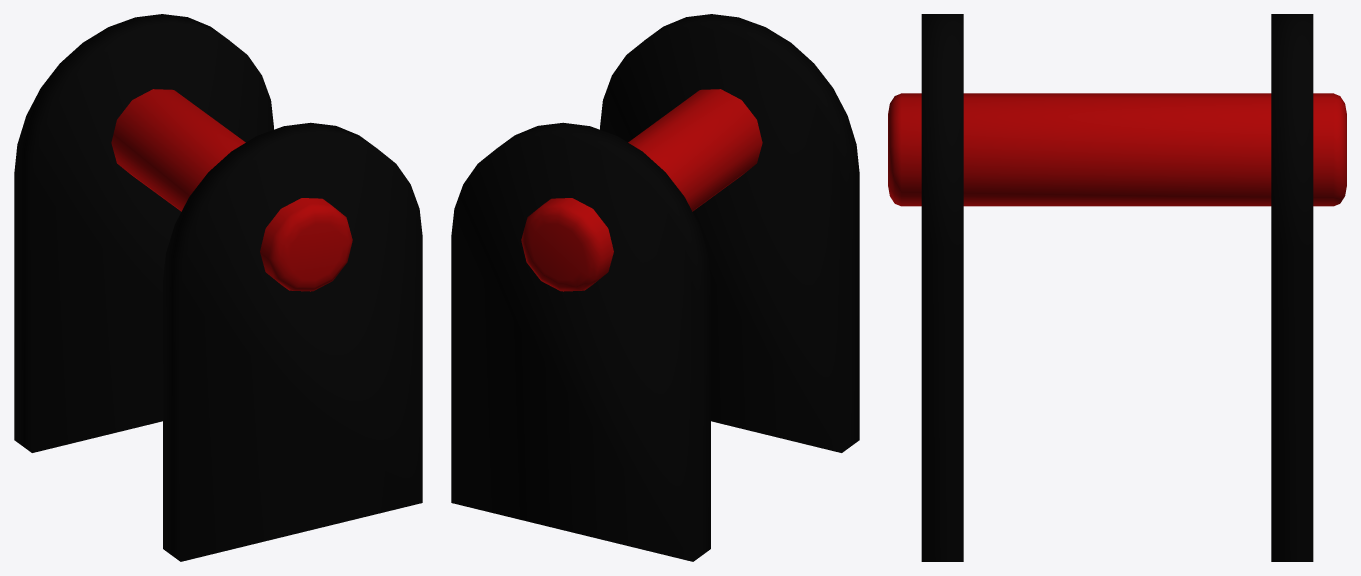
The model's file is Rotator_Ground.fbx.
The picture shows the model from 3 angles, left to right: view 1: azimuth 30°, elevation 25°; view 2: azimuth 150°, elevation 25°; view 3: azimuth 270°, elevation 25°; orthographic projection. The views are drawn at different scales.
Visible parts, largest first — view 1: Rotator_Ground; view 2: Rotator_Ground; view 3: Rotator_Ground.
Part boxes in pixels (x1,y1,x2,y2): Rotator_Ground: [14, 14, 422, 561]; Rotator_Ground: [451, 14, 859, 561]; Rotator_Ground: [888, 14, 1346, 561].
Bounding box in the file's own units: 0.3237 × 0.4514 × 0.5028.
